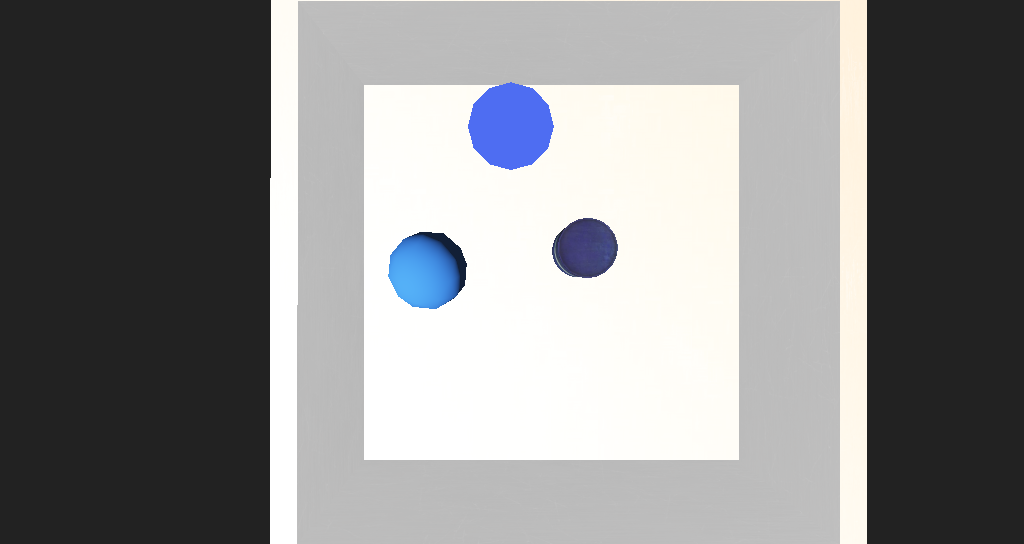cone: (509, 241, 556, 274)
cylinder: (441, 157, 502, 215)
sphere: (371, 246, 438, 289)
